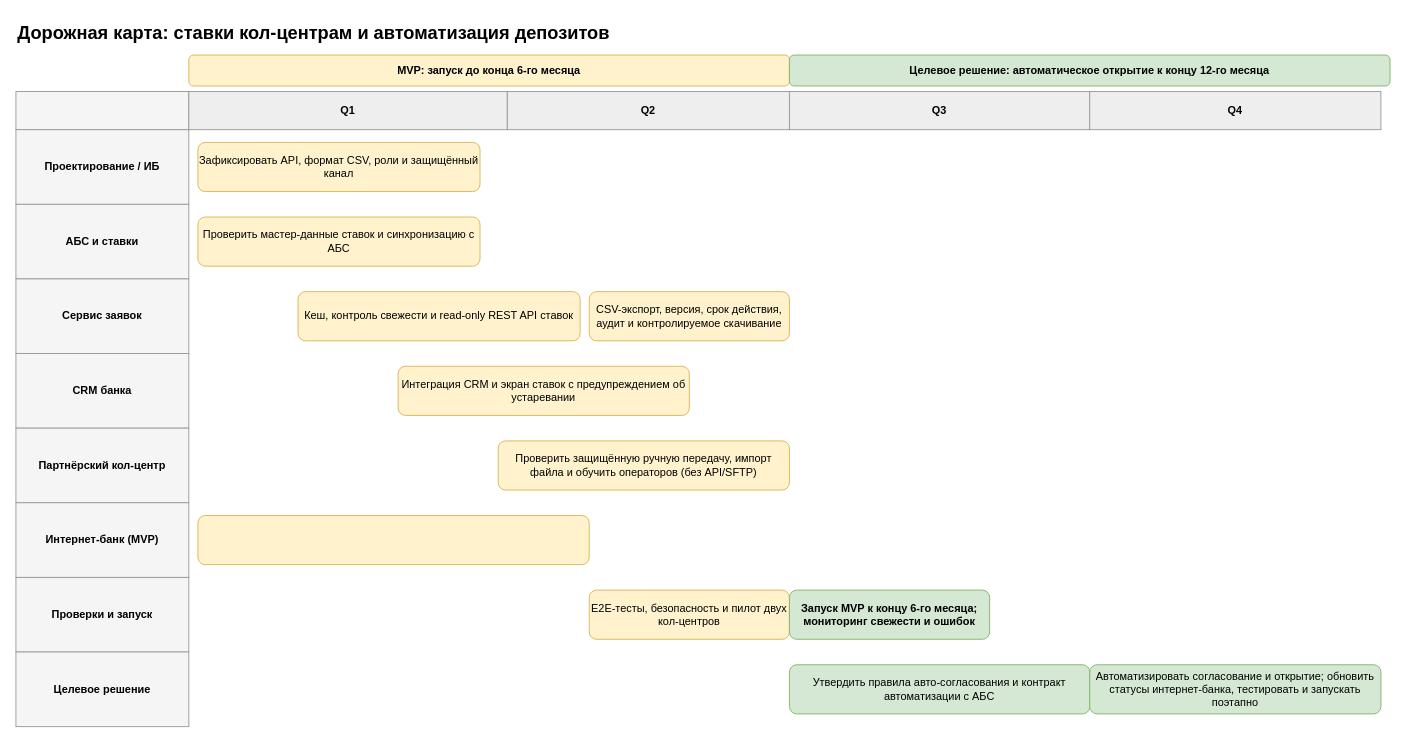
Some shapes in this 1406 by 743 pixel diagram are drawn without their labels. The centre of each missing label's shape, as x and y in pixels:
Онлайн-заявка, статусы и ручная обработка бэк-офисом: pixel 393 540
Система / команда: pixel 102 110
